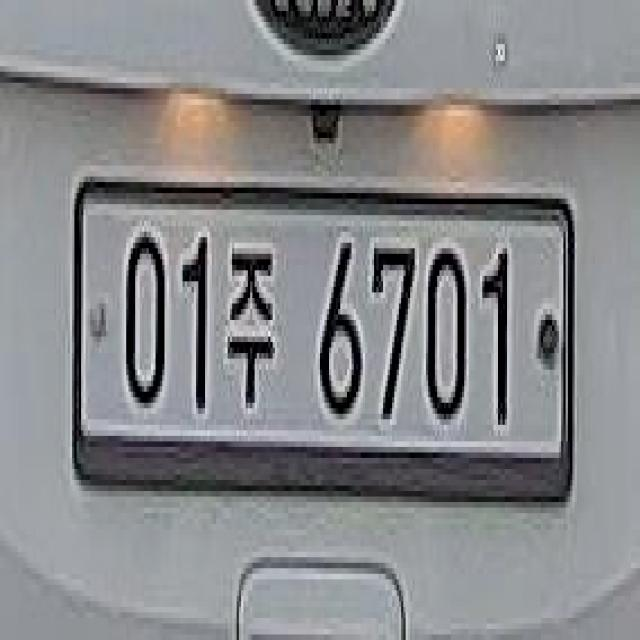illegal_plate: (71, 162, 580, 534)
